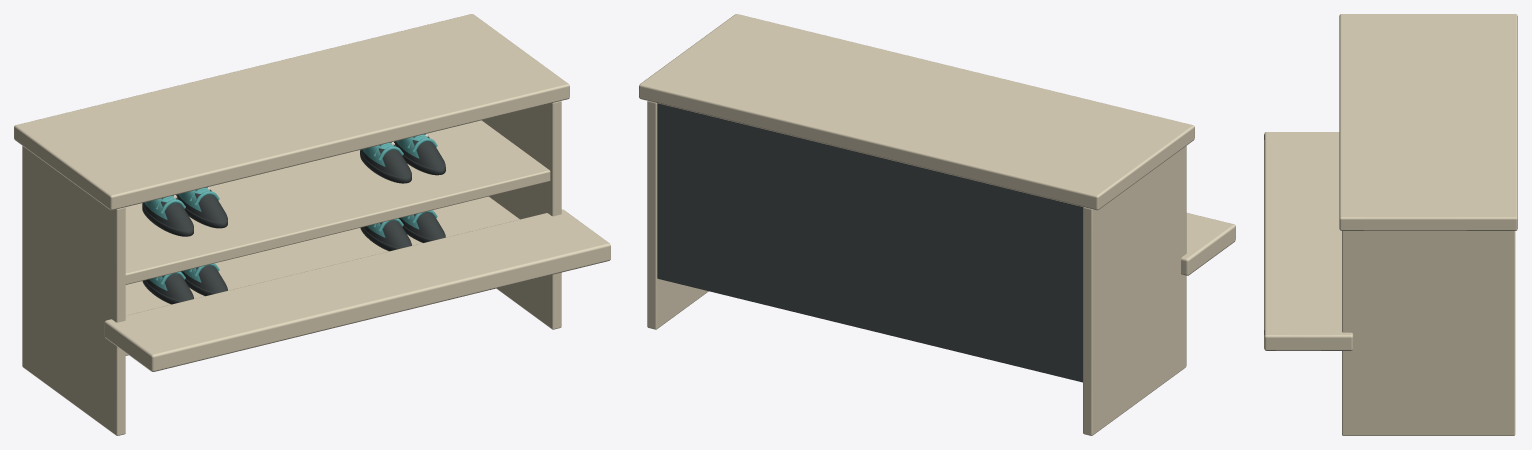
The model's file is indoor-climbing-and-bouldering-gym-indoor-climbing-and-e0b2dec9__31556.glb.
3 renders of one model, left to right at view 1: azimuth 30°, elevation 25°; view 2: azimuth 150°, elevation 25°; view 3: azimuth 270°, elevation 25°, orthographic. The views are drawn at different scales.
Parts seen in each view (by area): view 1: indoor-climbing-and-bouldering-gym-shoe-hire-fitting-counter (×3); view 2: indoor-climbing-and-bouldering-gym-shoe-hire-fitting-counter (×2); view 3: indoor-climbing-and-bouldering-gym-shoe-hire-fitting-counter.
Boxes of the visible parts, x1=… form: indoor-climbing-and-bouldering-gym-shoe-hire-fitting-counter (×3): x1=14, y1=14, x2=610, y2=435; indoor-climbing-and-bouldering-gym-shoe-hire-fitting-counter (×2): x1=639, y1=14, x2=1235, y2=435; indoor-climbing-and-bouldering-gym-shoe-hire-fitting-counter: x1=1264, y1=14, x2=1517, y2=435.
Size of the model in its own units: 1.9 by 0.9601 by 0.9949.
